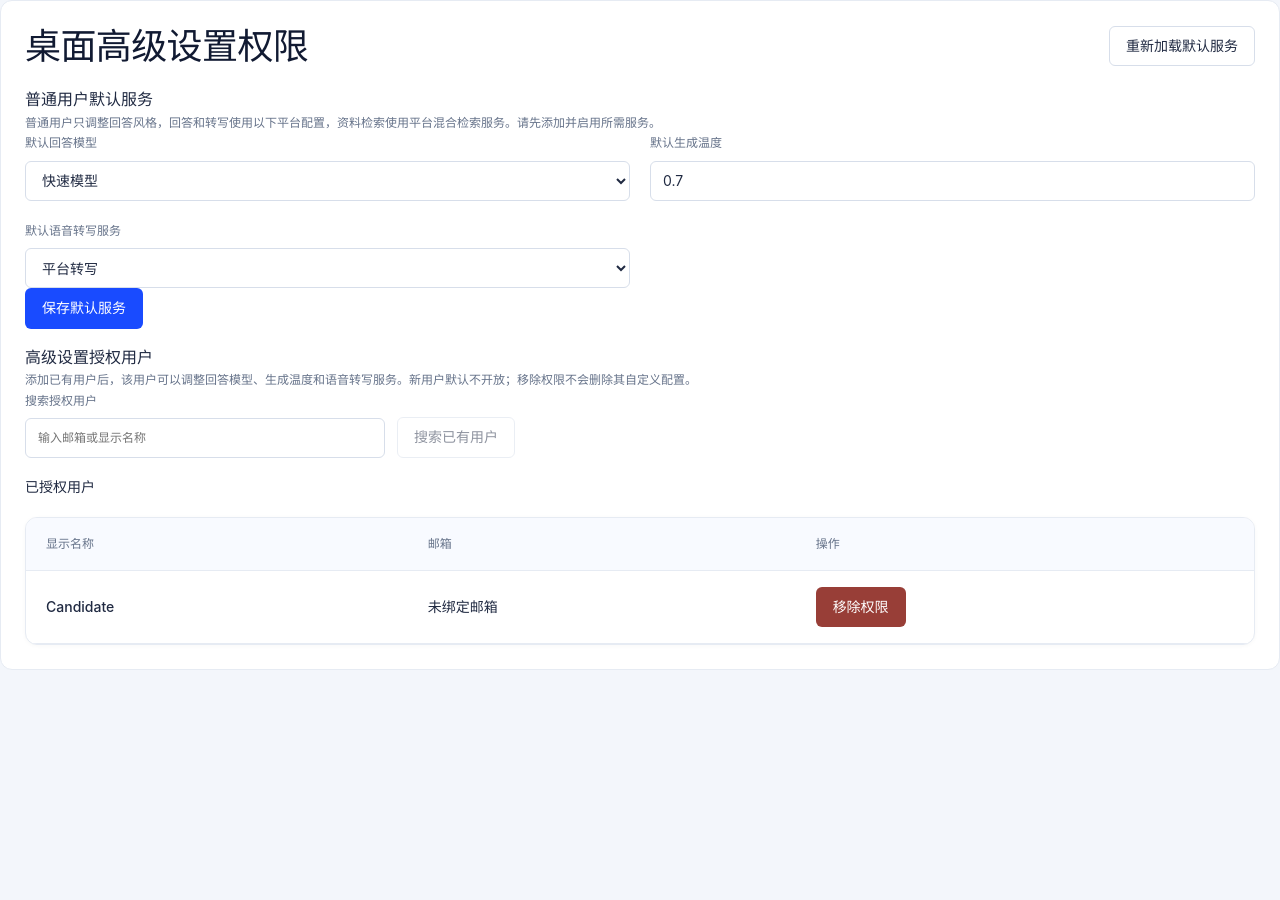
Test: desktop advanced settings policy › keeps an authorized user visible if revoking fails
Click the button with aria-label "移除权限 Candidate" at (861, 607), box [816,586,906,627]
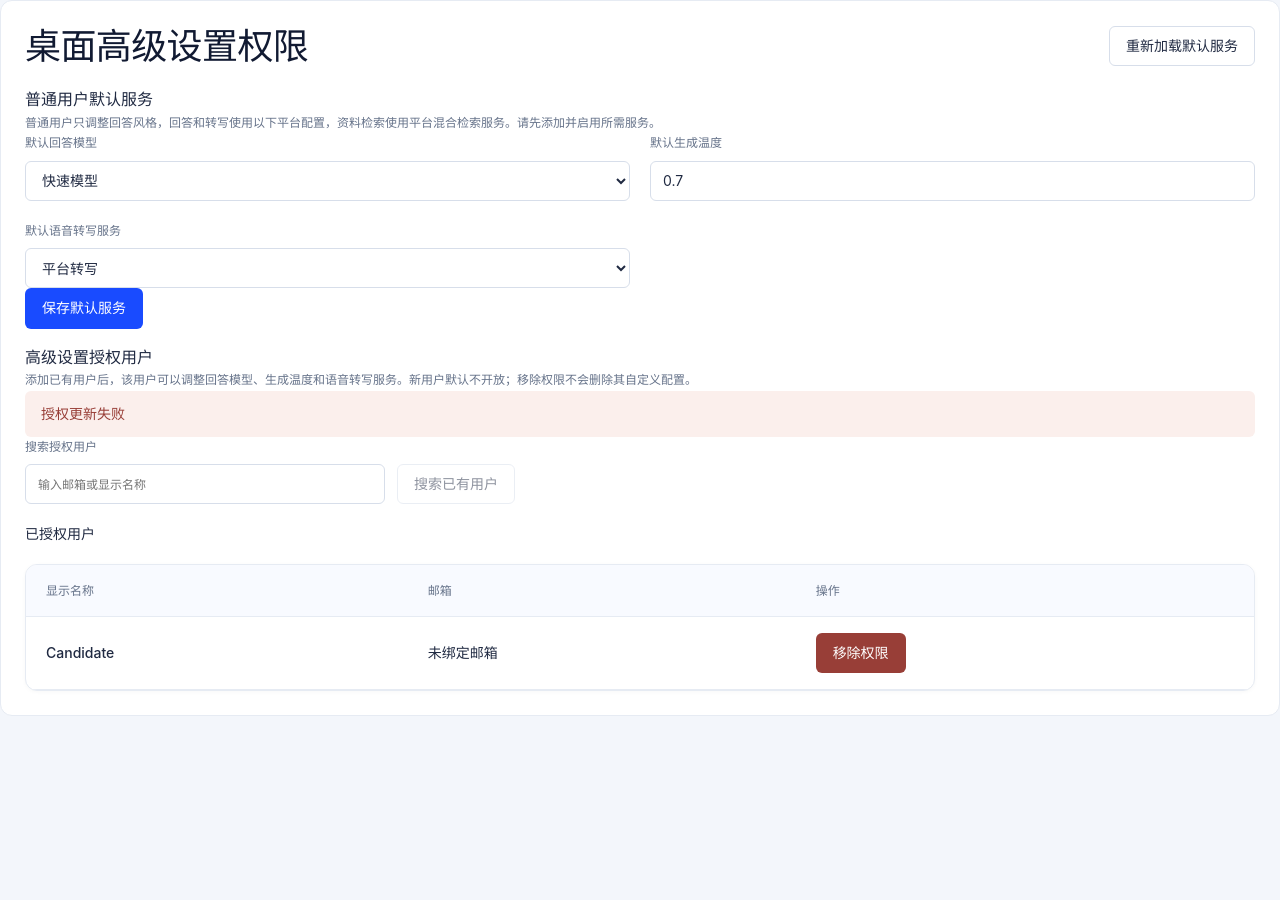
Expected: the button with aria-label "移除权限 Candidate" is enabled, [816,633,906,673]
Expected: the message reads "授权更新失败", [41,404,125,422]
